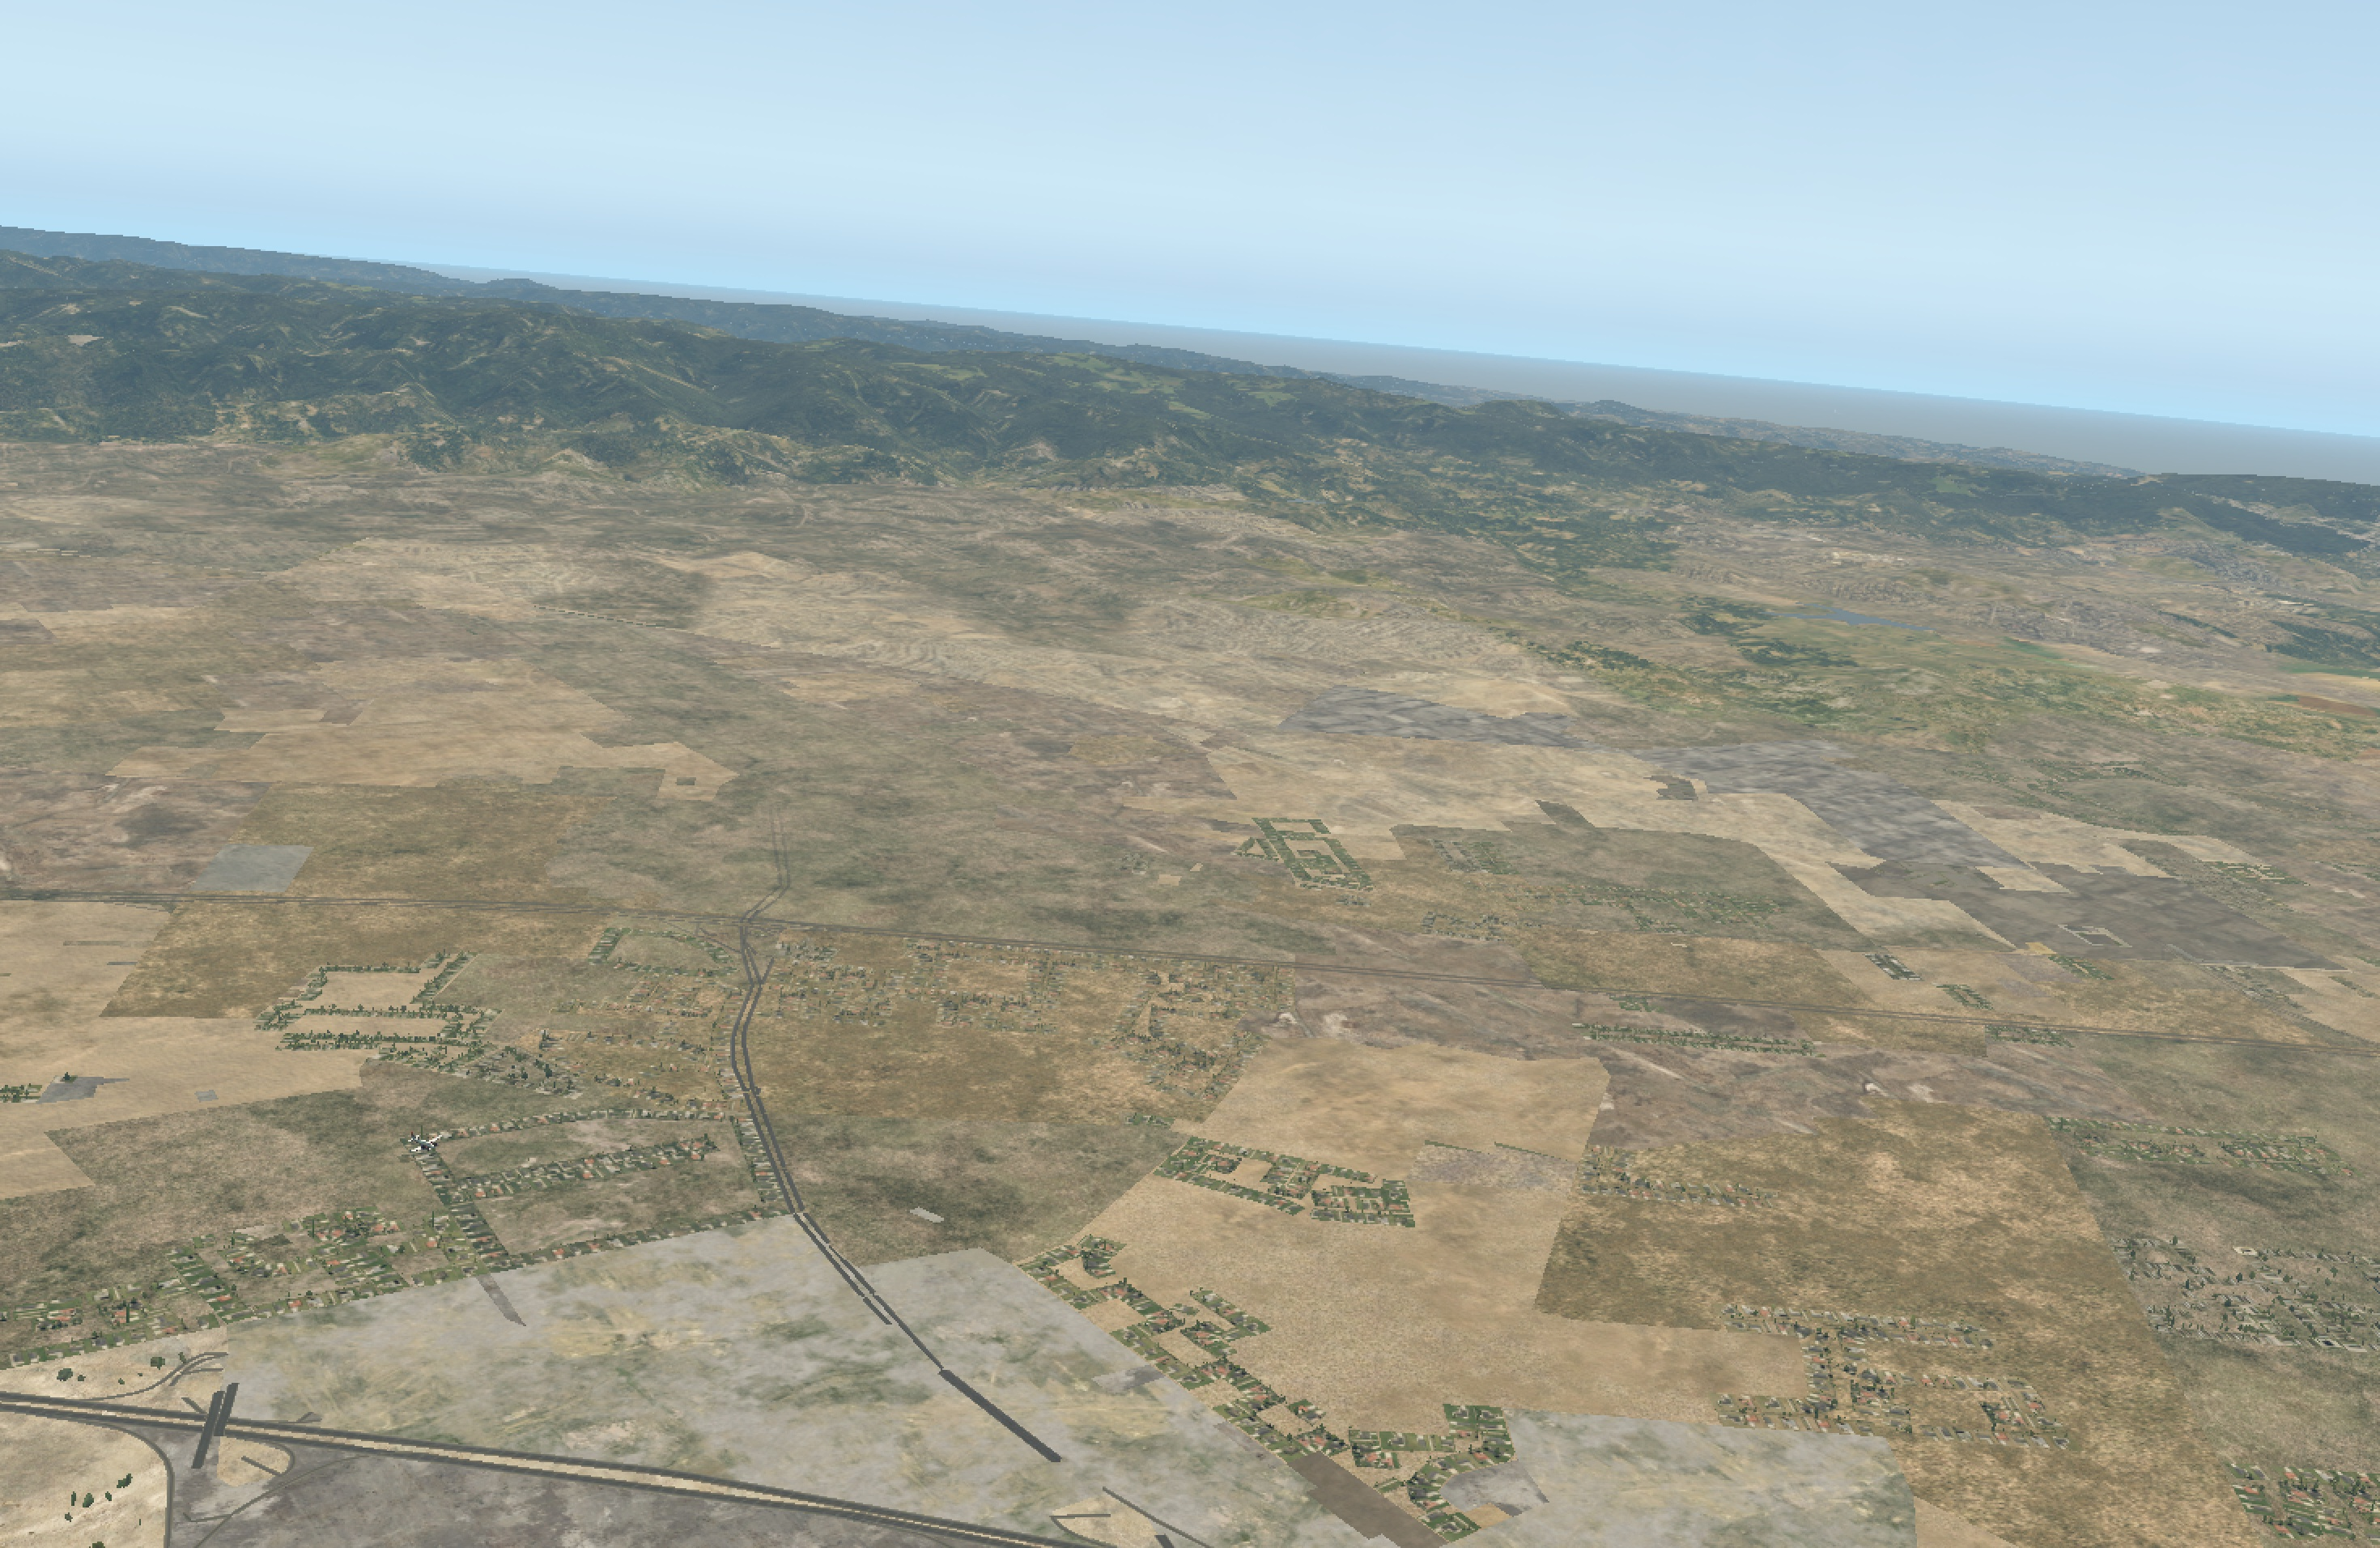aircraft: (406, 1138, 449, 1154)
